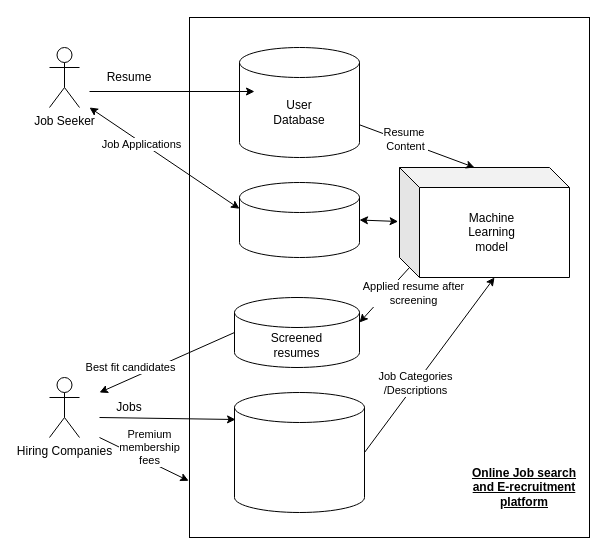
The diagram is 607 pixels wide and 555 high, and some of its shapes have lost their labels. The shapes that lost their labels are listed below. From the top down, each one's centre as x and y in pixels, then its label:
At point (299, 220): "Job Recommendations".
At point (299, 452): "Job postings".
